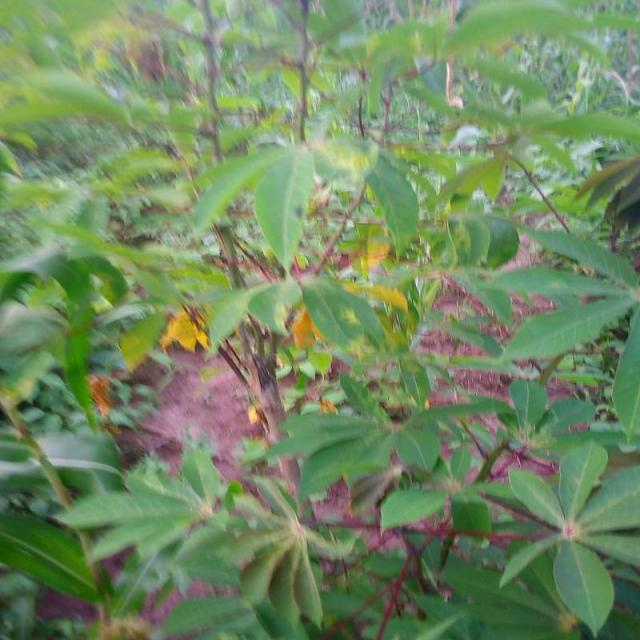cassava leaf: (253, 146, 314, 272)
